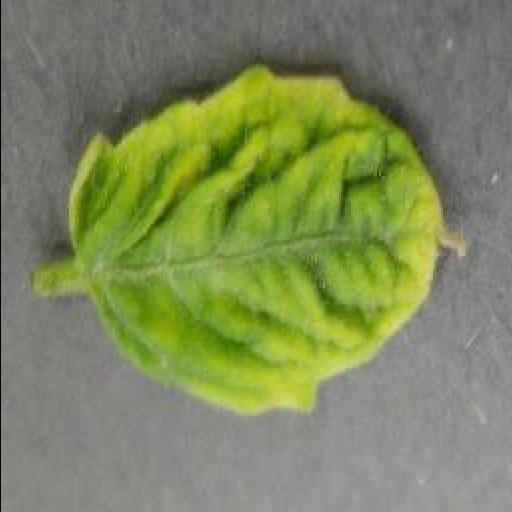disease_tomato: (64, 67, 466, 415)
